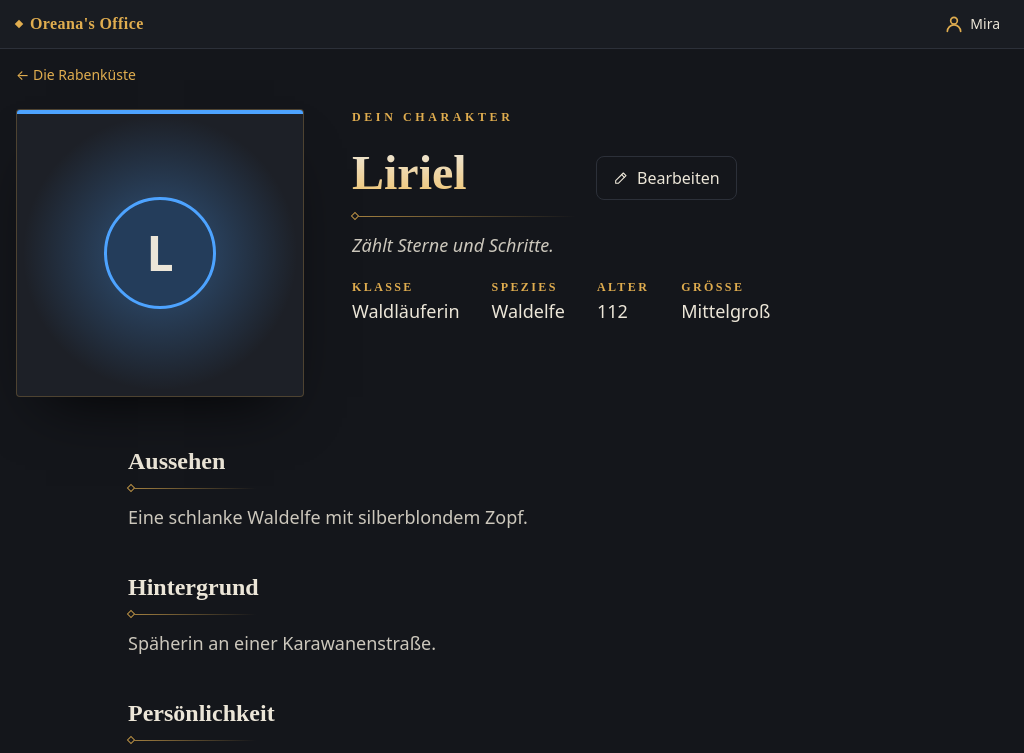
Test: CharacterPage › counts the characters of a text against its limit
The width and height of the screenshot is (1024, 753).
Click the button "Bearbeiten". click: (666, 178)
box: [596, 156, 737, 200]
(page scrolled)
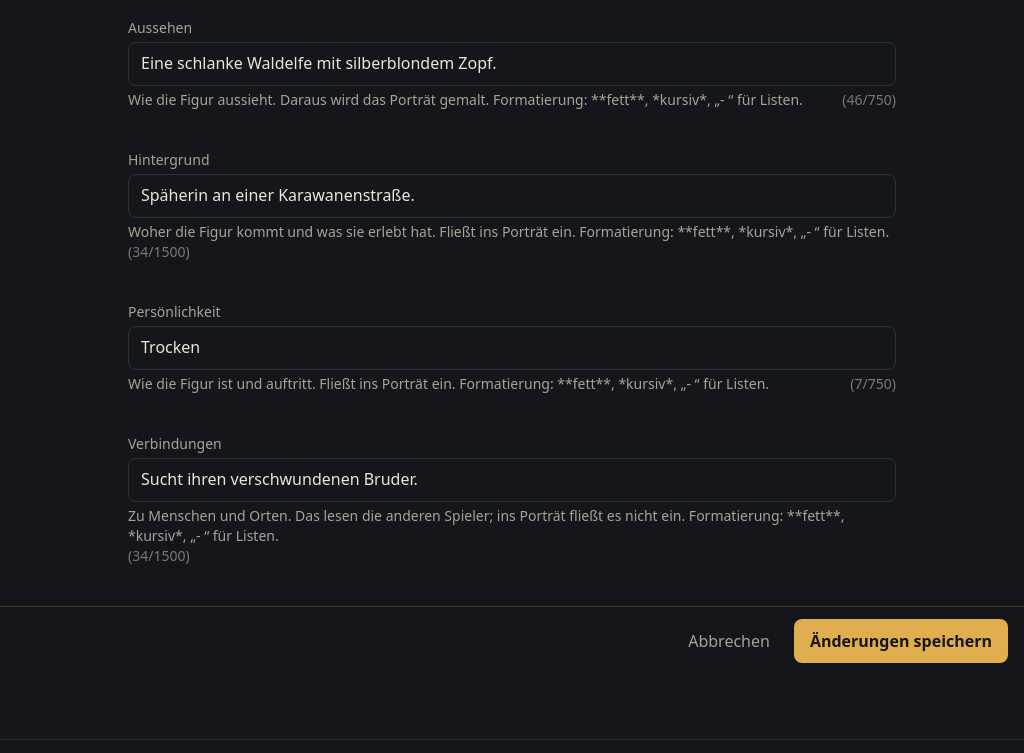
Now the text "(7/750)" is shown, box [850, 374, 896, 394]
Now the text "(34/1500)" is shown 2 times, box [128, 242, 190, 262]; [128, 546, 190, 566]
